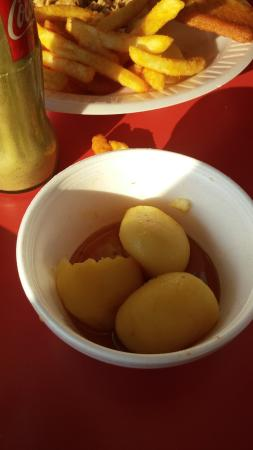boiled potatoes: (120, 275, 212, 346), (56, 256, 127, 317), (117, 207, 186, 269)
